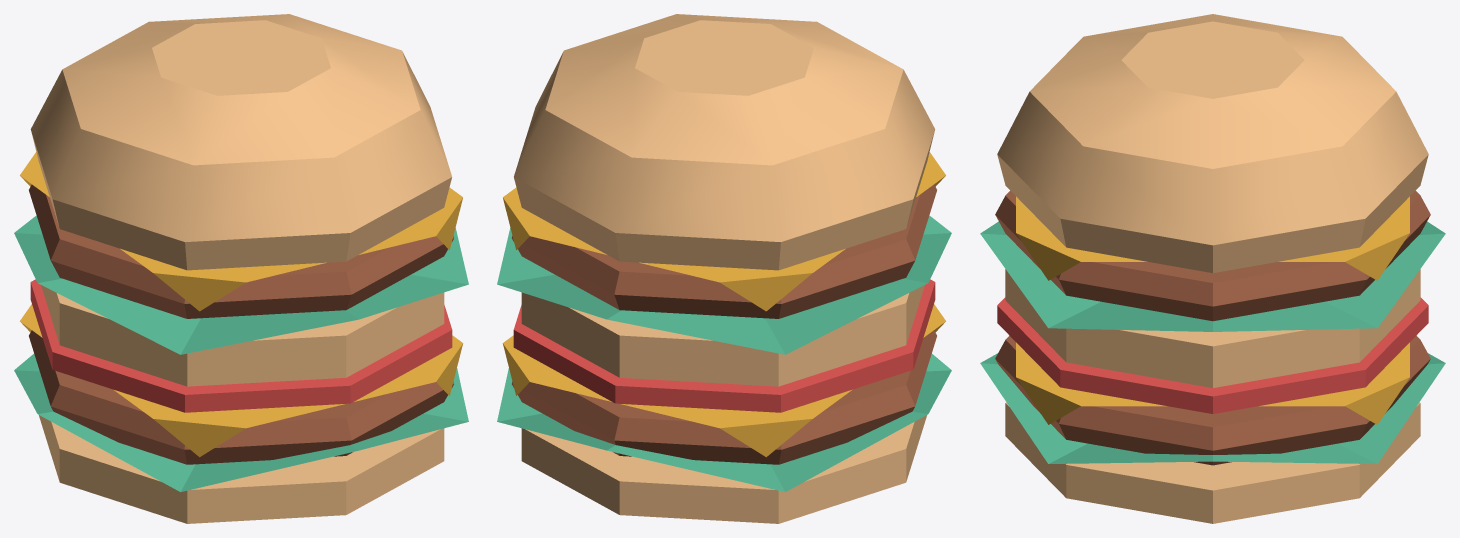
Rendered from burgerDouble.fbx.
3 renders of one model, left to right at view 1: azimuth 30°, elevation 25°; view 2: azimuth 150°, elevation 25°; view 3: azimuth 270°, elevation 25°, orthographic.
Visible parts, largest first — view 1: bunTop, bunBottom (×2), patty (×2), salad (×2), cheese (×2), tomato; view 2: bunTop, bunBottom (×2), patty (×2), salad (×2), cheese (×2), tomato; view 3: bunTop, bunBottom (×2), patty (×2), salad (×2), tomato, cheese (×2).
Part boxes in pixels (x1,y1,x2,y2): bunTop: (30, 14, 451, 270); bunBottom (×2): (39, 285, 444, 523); patty (×2): (29, 184, 453, 464); salad (×2): (14, 215, 468, 491); cheese (×2): (20, 152, 463, 457); tomato: (30, 279, 452, 412); bunTop: (514, 14, 935, 270); bunBottom (×2): (521, 285, 926, 523); patty (×2): (512, 184, 936, 464); salad (×2): (497, 215, 951, 491); cheese (×2): (502, 152, 945, 457); tomato: (513, 279, 935, 412); bunTop: (997, 14, 1428, 272); bunBottom (×2): (1005, 269, 1420, 523); patty (×2): (995, 190, 1430, 465); salad (×2): (980, 221, 1445, 463); tomato: (997, 297, 1428, 413); cheese (×2): (1016, 196, 1409, 424).
Size of the model in its own units: 4.04 by 3.6 by 4.04.
